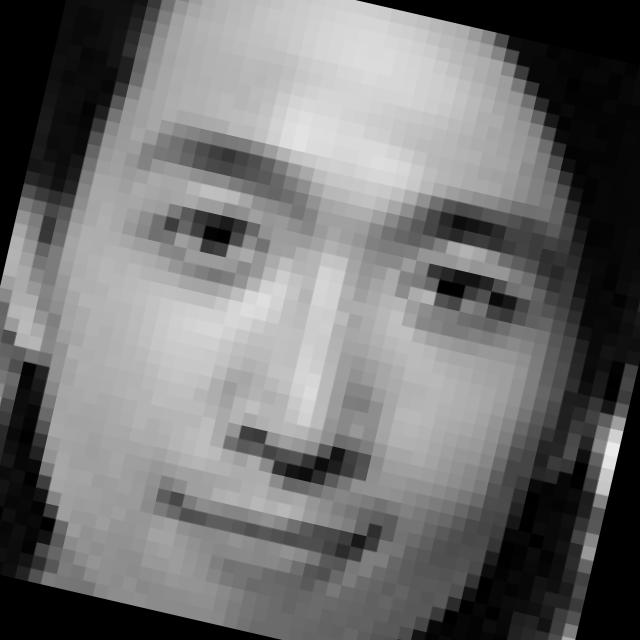neutral: (27, 113, 578, 640)
